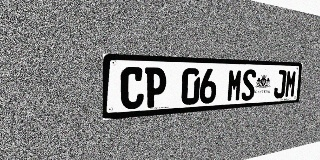0: (181, 68, 200, 105)
6: (199, 68, 217, 104)
C: (120, 67, 144, 110)
J: (273, 70, 287, 99)
M: (226, 69, 243, 102), (284, 70, 297, 98)
P: (144, 67, 167, 108)
S: (241, 69, 256, 101)
